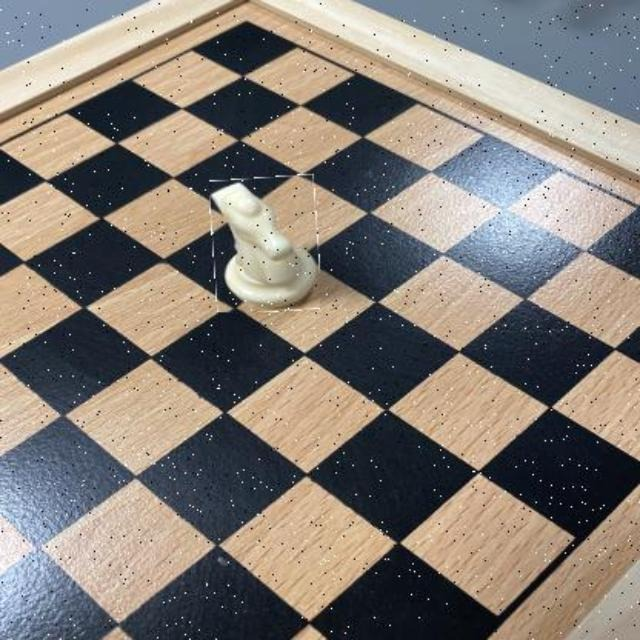white-knight: (211, 176, 320, 312)
